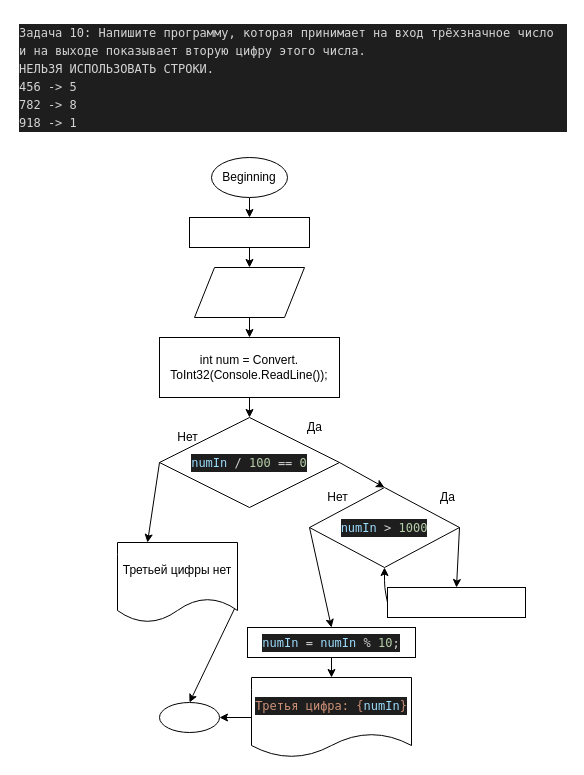
This 584x775 diagram has some shape labels left out. The centre of each missing label's shape, as x and y in pixels:
"Concole.Clear()" belongs at point (249, 232).
"End" belongs at point (189, 717).
"int num" belongs at point (249, 292).
"numIn = numIn / 10" belongs at point (456, 602).
